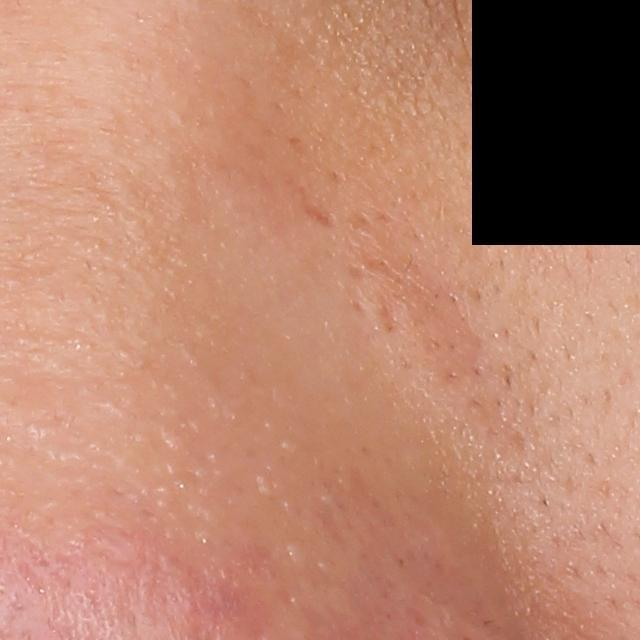atrophic_scar: (304, 202, 339, 228)
